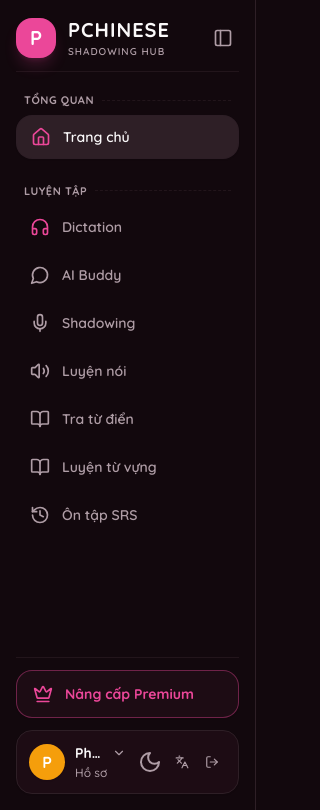
F01 sidebar › allows toggling sidebar collapsed state
Check: the text "PCHINESE" is shown, box [68,17,170,42]
// Click to collapse
Click the button with test id "sidebar-toggle-btn".
click(223, 38)  # box [207,22,239,54]
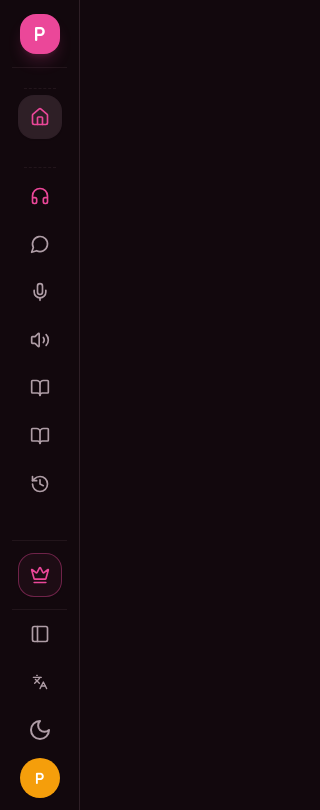
Check: the text "PCHINESE" is gone
// Click to expand again
Click the button with test id "sidebar-toggle-btn".
click(40, 634)  # box [20,614,60,654]
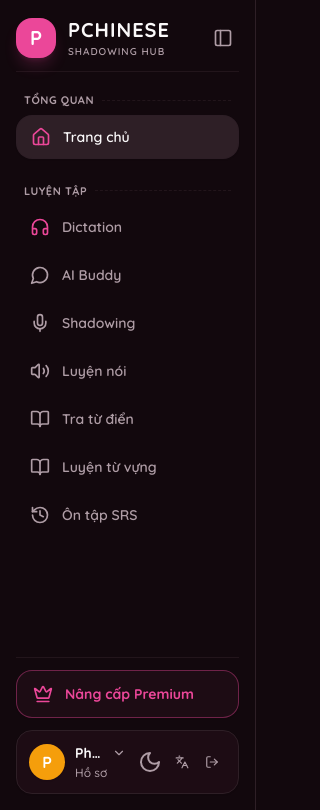
Check: the text "PCHINESE" is shown, box [68,17,170,42]
